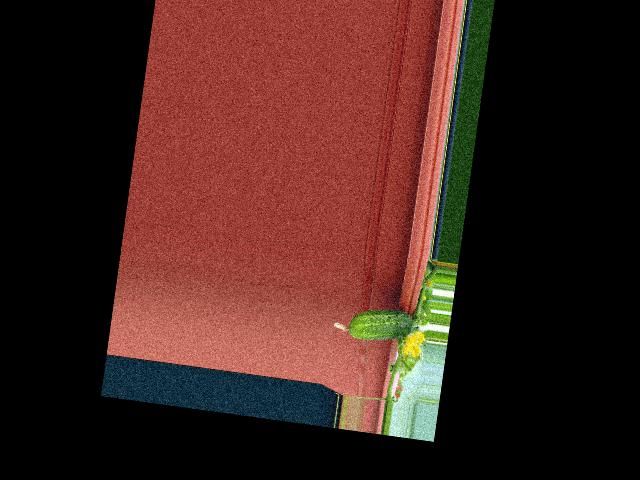cucumber: (331, 302, 414, 346)
